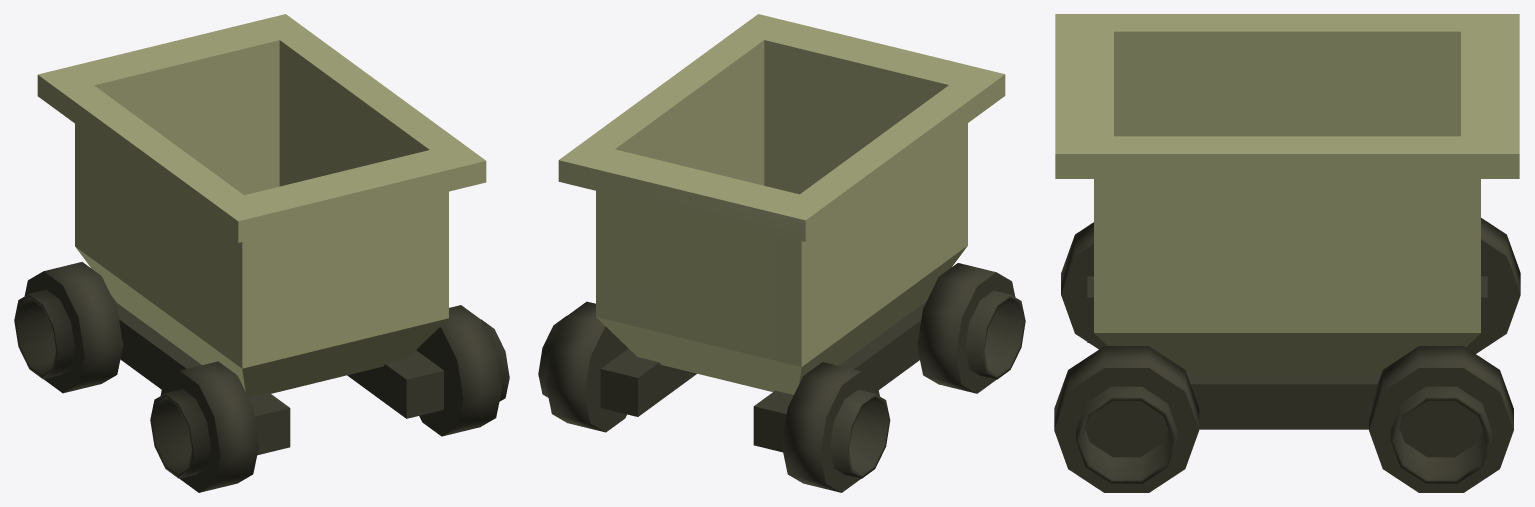
Rendered from Minecart.fbx.
The picture shows the model from 3 angles, left to right: view 1: azimuth 30°, elevation 25°; view 2: azimuth 150°, elevation 25°; view 3: azimuth 270°, elevation 25°; orthographic projection. The views are drawn at different scales.
Parts seen in each view (by area): view 1: Cube; view 2: Cube; view 3: Cube.
Part boxes in pixels (bbox=[...]): Cube: bbox=[14, 14, 509, 492]; Cube: bbox=[538, 14, 1025, 492]; Cube: bbox=[1054, 14, 1520, 492].
Size of the model in its own units: 151 by 132 by 169.
